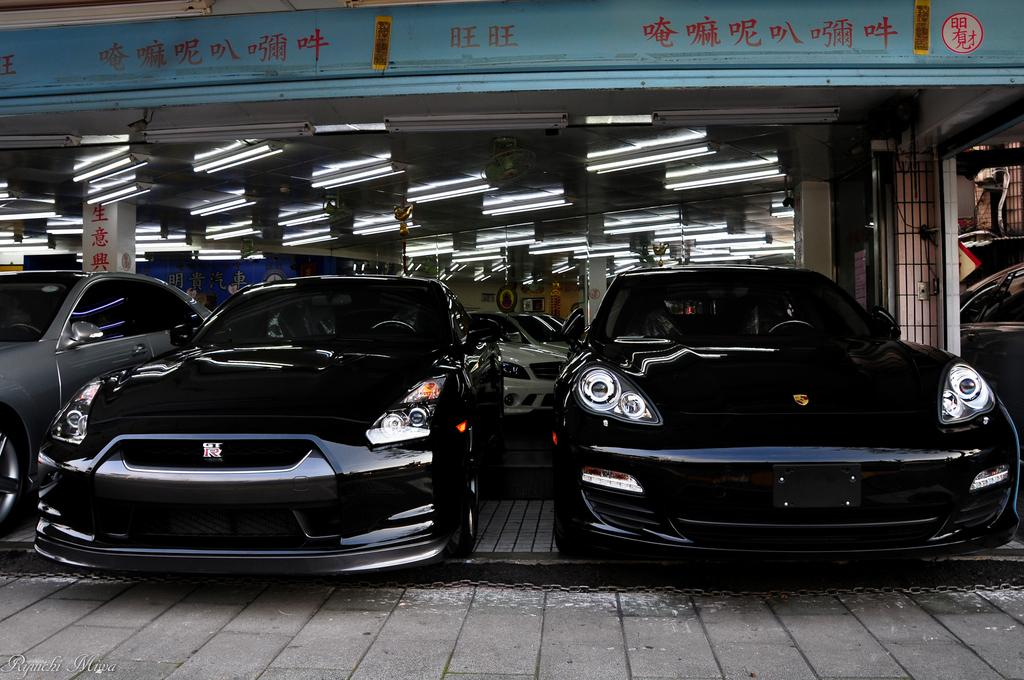Car: (31, 264, 505, 581), (551, 261, 1023, 558), (0, 264, 210, 542), (456, 300, 566, 417)
